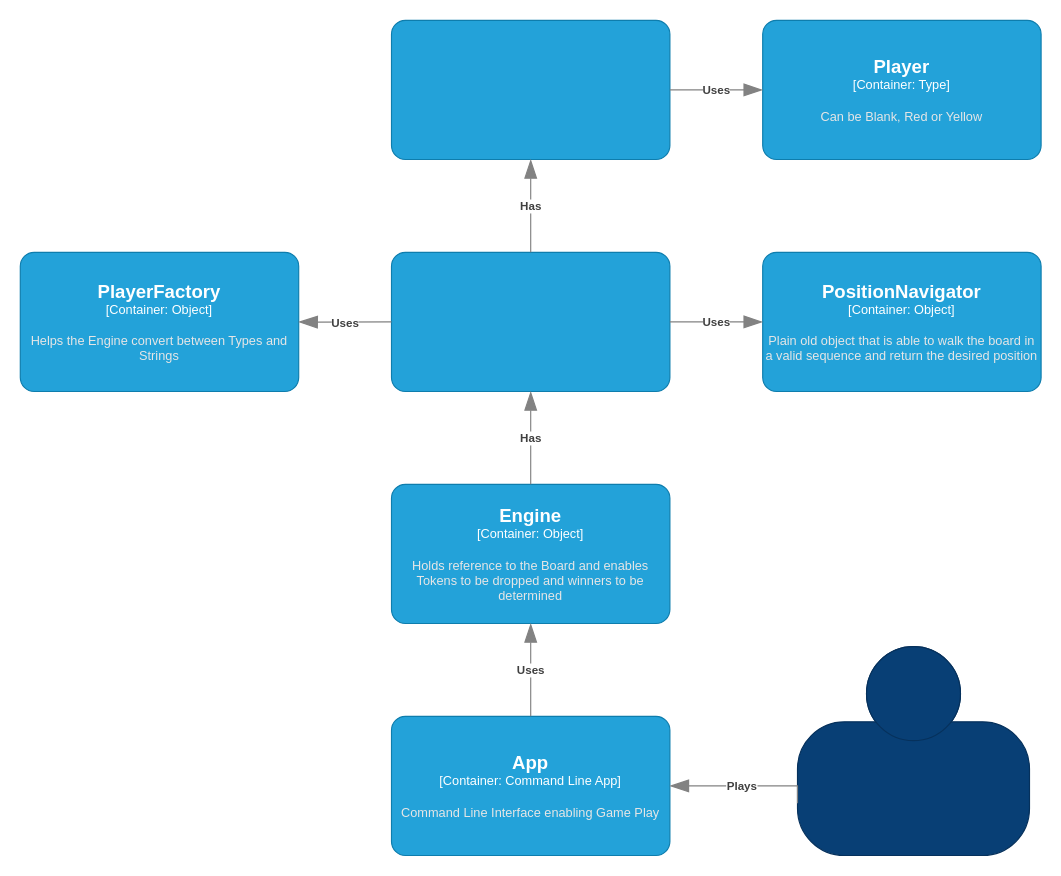
The diagram is 1061 pixels wide and 876 high, and some of its shapes have lost their labels. Here are the shapes that lost their labels. From the top down, the box of each, then its label:
(390, 19, 670, 160): State [Container: Object] Holds reference to Positions and the Winner Predicate
(390, 251, 670, 392): Board [Container: Object] Holds reference to the boards State
(796, 646, 1030, 855): Player [Person] Player
